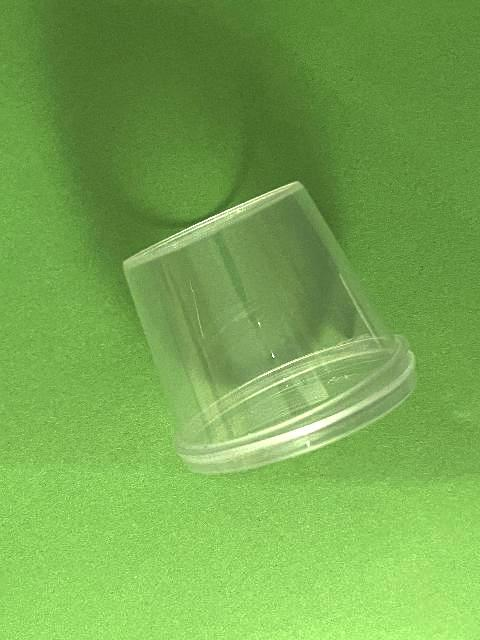plasticcontainer: (121, 179, 419, 477)
